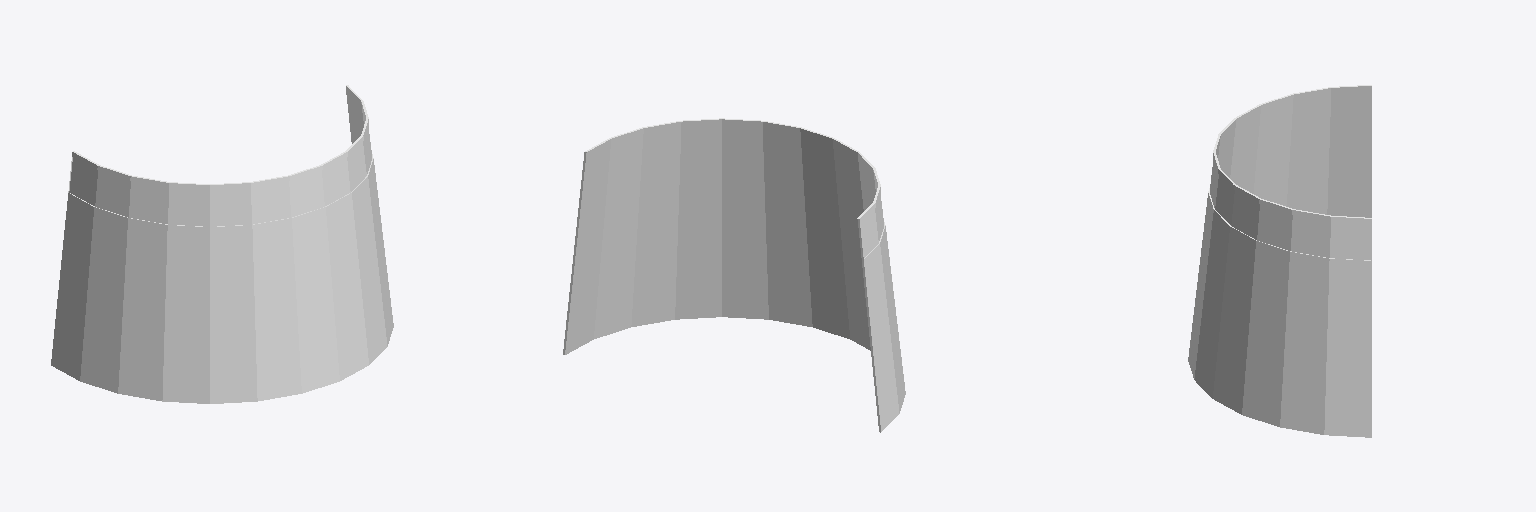
Rendered from LLV_V_Engine_1_Fairing_2.obj.
3 renders of one model, left to right at view 1: azimuth 30°, elevation 25°; view 2: azimuth 150°, elevation 25°; view 3: azimuth 270°, elevation 25°, orthographic.
Parts seen in each view (by area): view 1: LLV_V_Engine_1_Fairing_2; view 2: LLV_V_Engine_1_Fairing_2; view 3: LLV_V_Engine_1_Fairing_2.
Boxes of the visible parts, x1,y1,x2,y2 form: LLV_V_Engine_1_Fairing_2: [51, 85, 393, 403]; LLV_V_Engine_1_Fairing_2: [563, 118, 905, 432]; LLV_V_Engine_1_Fairing_2: [1188, 85, 1371, 437].
Bounding box in the file's own units: 3.75 × 2.35 × 1.88.